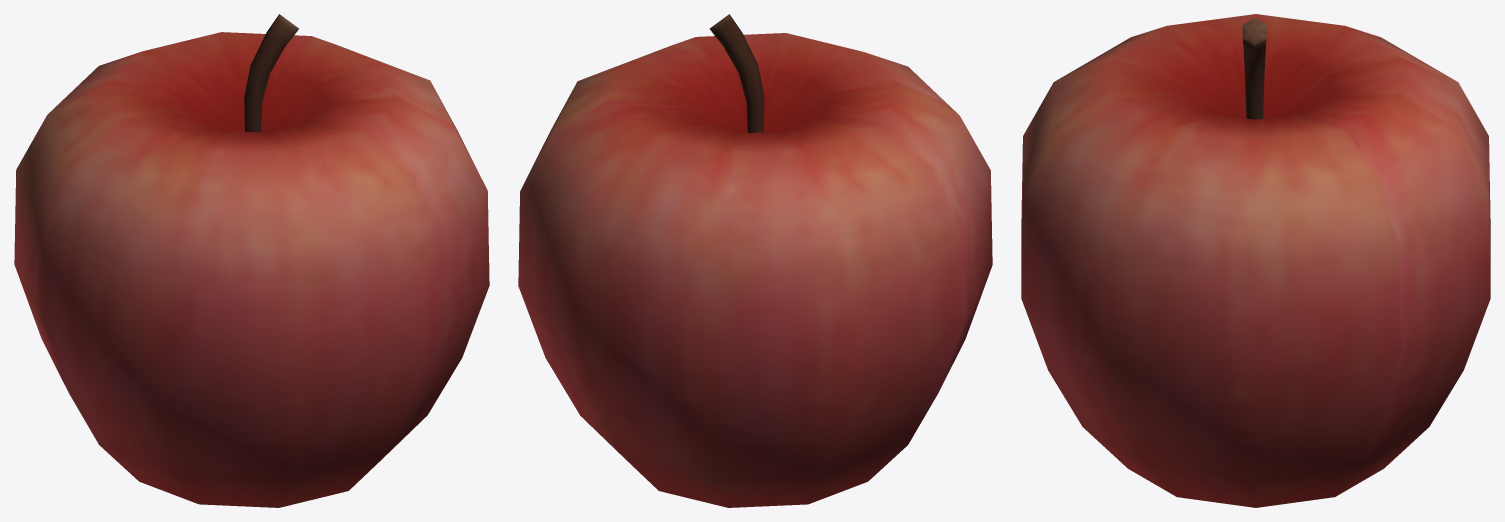
Rendered from TianZhuJiaoTang_01_pingguo_01.FBX.
The picture shows the model from 3 angles, left to right: view 1: azimuth 30°, elevation 25°; view 2: azimuth 150°, elevation 25°; view 3: azimuth 270°, elevation 25°; orthographic projection. The views are drawn at different scales.
Parts seen in each view (by area): view 1: TianZhuJiaoTang_01_pingguo_01; view 2: TianZhuJiaoTang_01_pingguo_01; view 3: TianZhuJiaoTang_01_pingguo_01.
Part boxes in pixels (x1,y1,x2,y2): TianZhuJiaoTang_01_pingguo_01: (14, 14, 489, 507); TianZhuJiaoTang_01_pingguo_01: (518, 14, 992, 507); TianZhuJiaoTang_01_pingguo_01: (1021, 14, 1490, 507).
Size of the model in its own units: 52.1 by 52.9 by 49.55.
